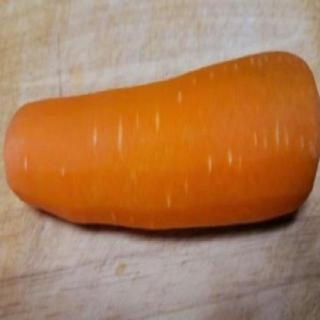carrot: (4, 50, 318, 237)
